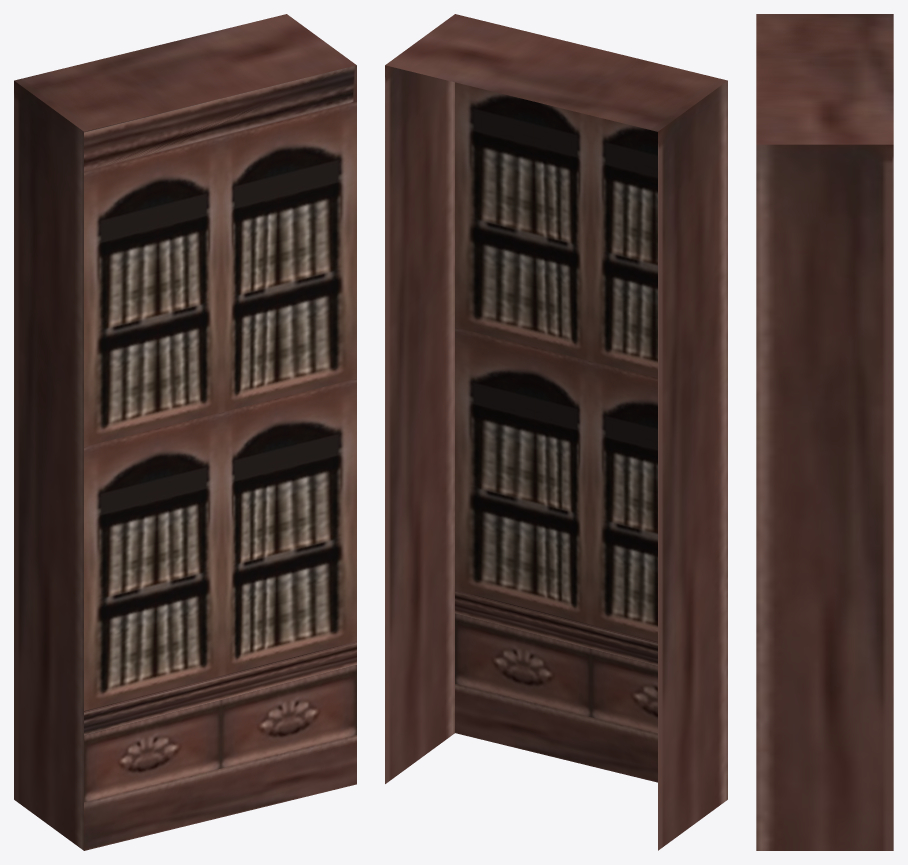
File: bookshelf_fancy.fbx
3 renders of one model, left to right at view 1: azimuth 30°, elevation 25°; view 2: azimuth 150°, elevation 25°; view 3: azimuth 270°, elevation 25°, orthographic.
Parts seen in each view (by area): view 1: lod_high; view 2: lod_high; view 3: lod_high.
Boxes of the visible parts, <box> form: lod_high: <box>14,14,356,850</box>; lod_high: <box>385,14,727,850</box>; lod_high: <box>756,14,893,850</box>.
Bounding box in the file's own units: 405 × 1020 × 180.
1 material, 1 textured.
